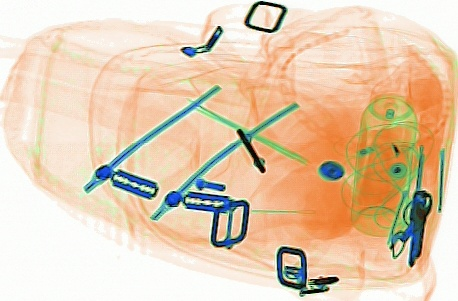pressure: (349, 75, 418, 236)
